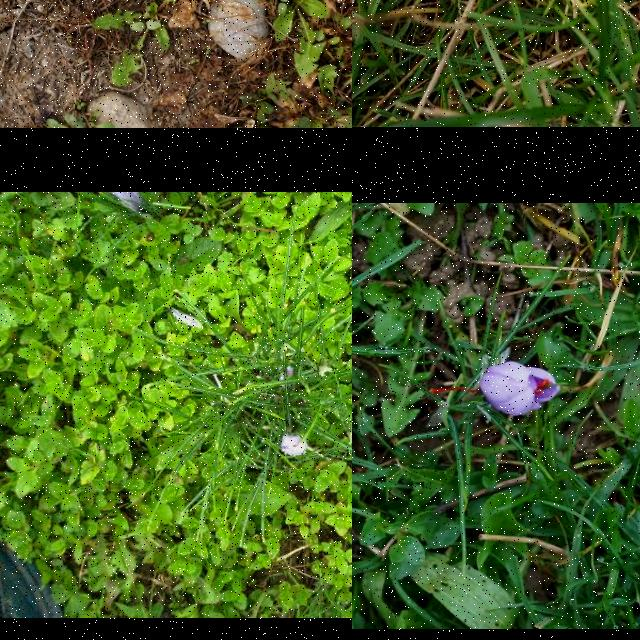flower: (428, 362, 562, 416), (281, 434, 309, 458)
